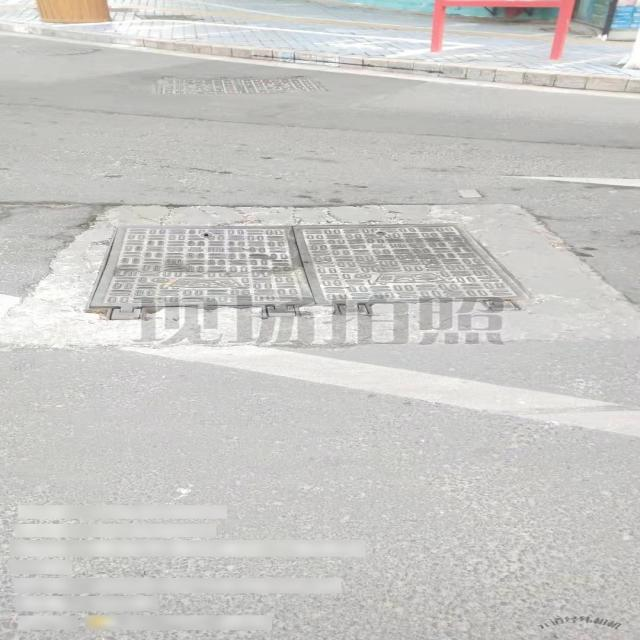Good: (83, 224, 532, 322)
